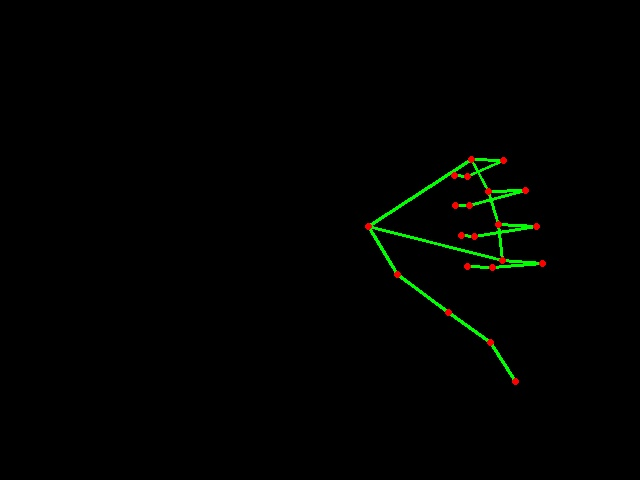slow: (355, 134, 552, 408)
